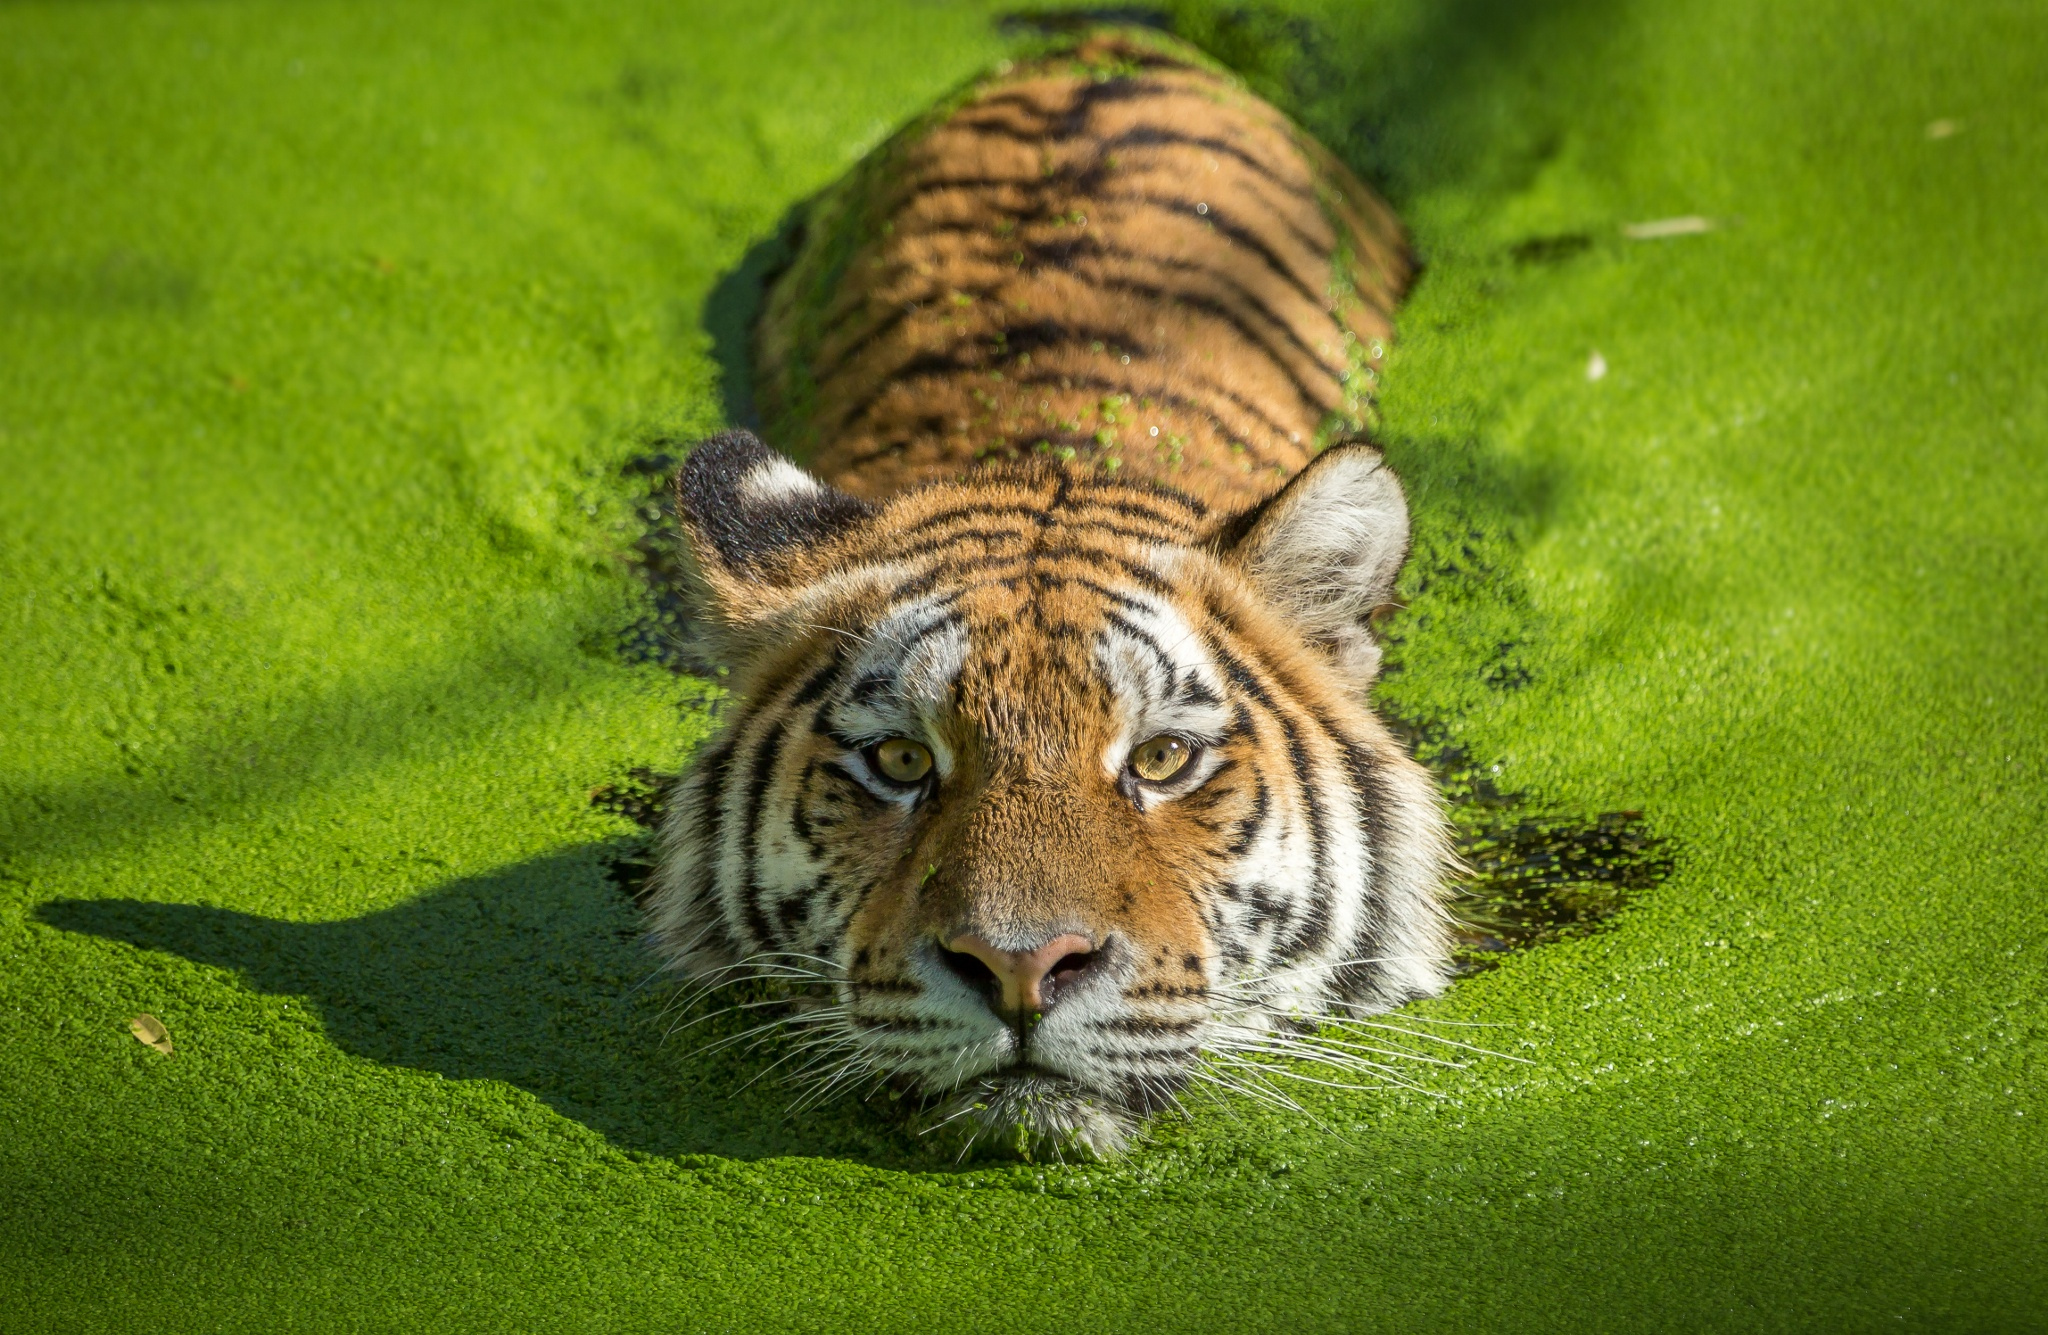tiger: (631, 13, 1490, 1165)
